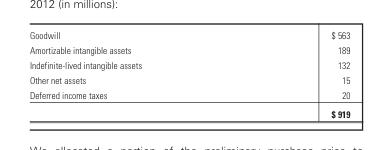table: (28, 28, 349, 119)
table column: (28, 28, 235, 119), (235, 28, 349, 119)
table row: (28, 87, 349, 104), (28, 56, 349, 72), (28, 41, 349, 56), (28, 72, 349, 87), (28, 104, 349, 119), (28, 28, 349, 41)
